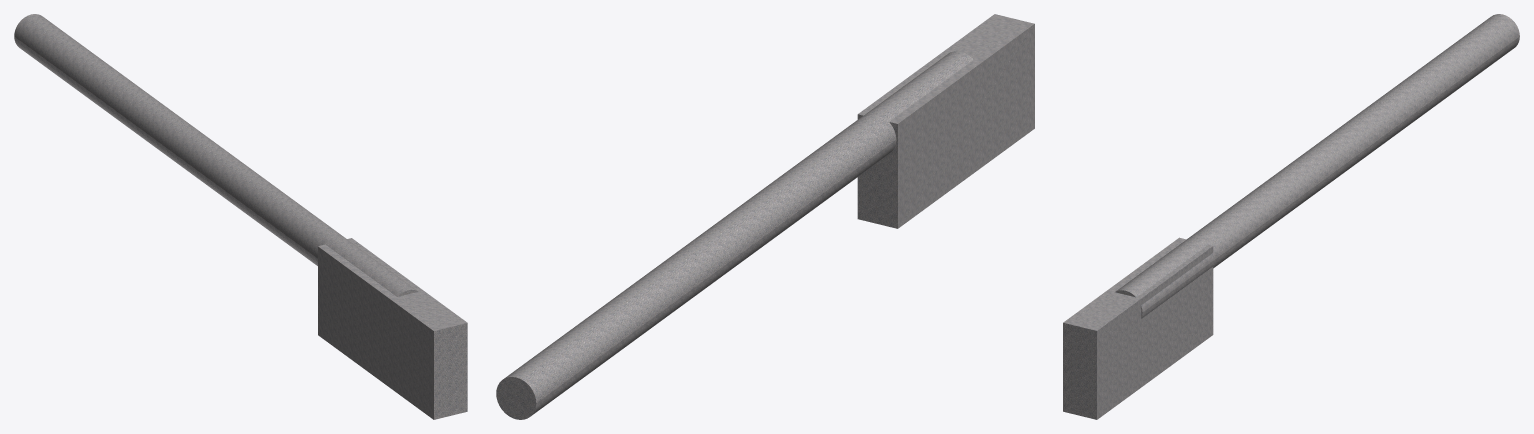
The picture shows the model from 3 angles, left to right: view 1: azimuth 30°, elevation 25°; view 2: azimuth 150°, elevation 25°; view 3: azimuth 330°, elevation 25°; orthographic projection. The views are drawn at different scales.
Visible parts, largest first — view 1: 0_3_1_2_1_2_0_3_3; view 2: 0_3_1_2_1_2_0_3_3; view 3: 0_3_1_2_1_2_0_3_3.
Boxes of the visible parts, x1,y1,x2,y2 form: 0_3_1_2_1_2_0_3_3: (14,14,467,419); 0_3_1_2_1_2_0_3_3: (496,14,1034,419); 0_3_1_2_1_2_0_3_3: (1063,14,1519,419).
Size of the model in its own units: 0.6226 by 1.57 by 12.88.
2 materials, 2 textured.
